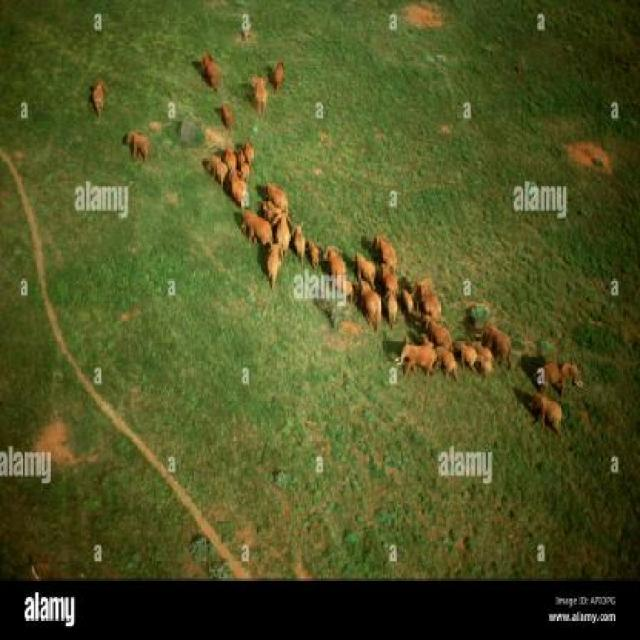elephant: (522, 352, 584, 391), (366, 253, 405, 302), (424, 329, 459, 378), (232, 208, 276, 246), (242, 61, 272, 116), (476, 318, 513, 360), (395, 348, 436, 383), (198, 146, 232, 188), (370, 229, 404, 271), (446, 331, 480, 372), (270, 200, 295, 255), (198, 46, 228, 91), (412, 317, 458, 346), (356, 281, 381, 333), (258, 230, 280, 288), (533, 395, 567, 431), (227, 164, 255, 207), (406, 280, 443, 312), (268, 53, 294, 95), (352, 242, 377, 282), (289, 214, 308, 264), (469, 334, 493, 372), (124, 128, 151, 160), (325, 245, 346, 283), (237, 147, 254, 190), (269, 174, 289, 209), (402, 277, 420, 315), (308, 228, 326, 264), (224, 135, 238, 179), (90, 77, 108, 109), (218, 104, 237, 131), (380, 286, 394, 322), (334, 278, 349, 311), (243, 132, 254, 160)
